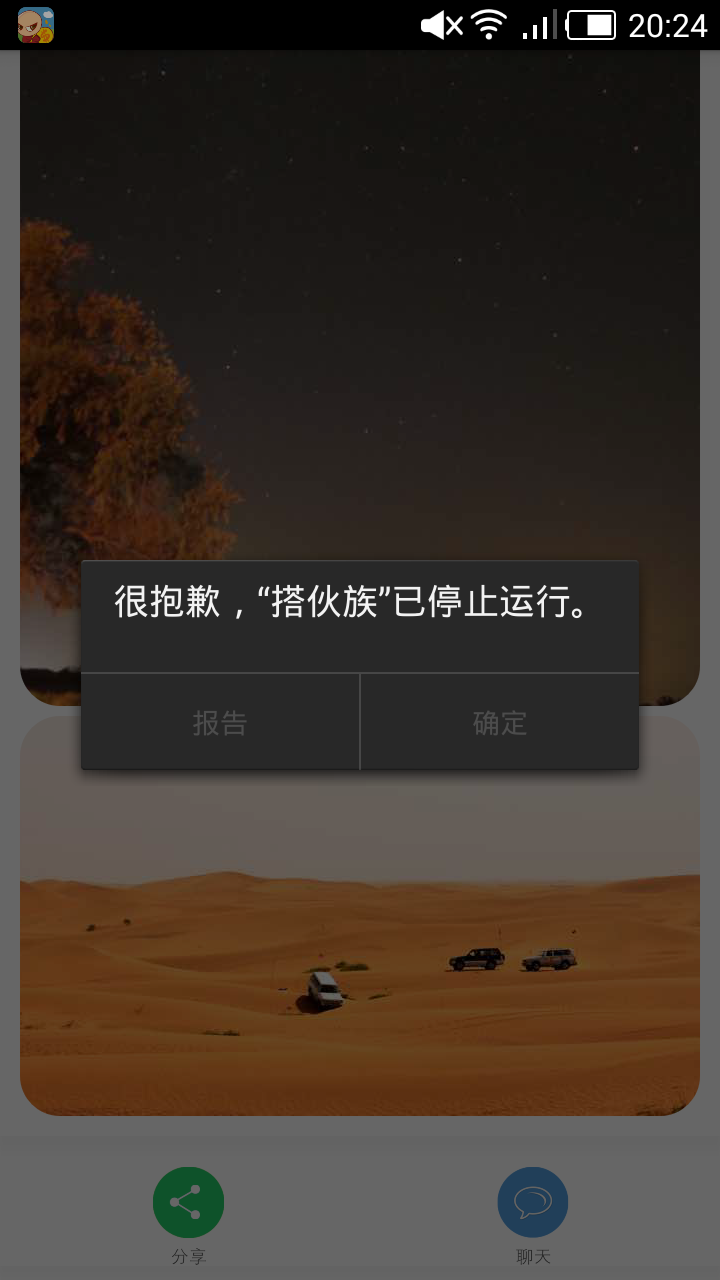alert: (63, 544, 663, 792)
